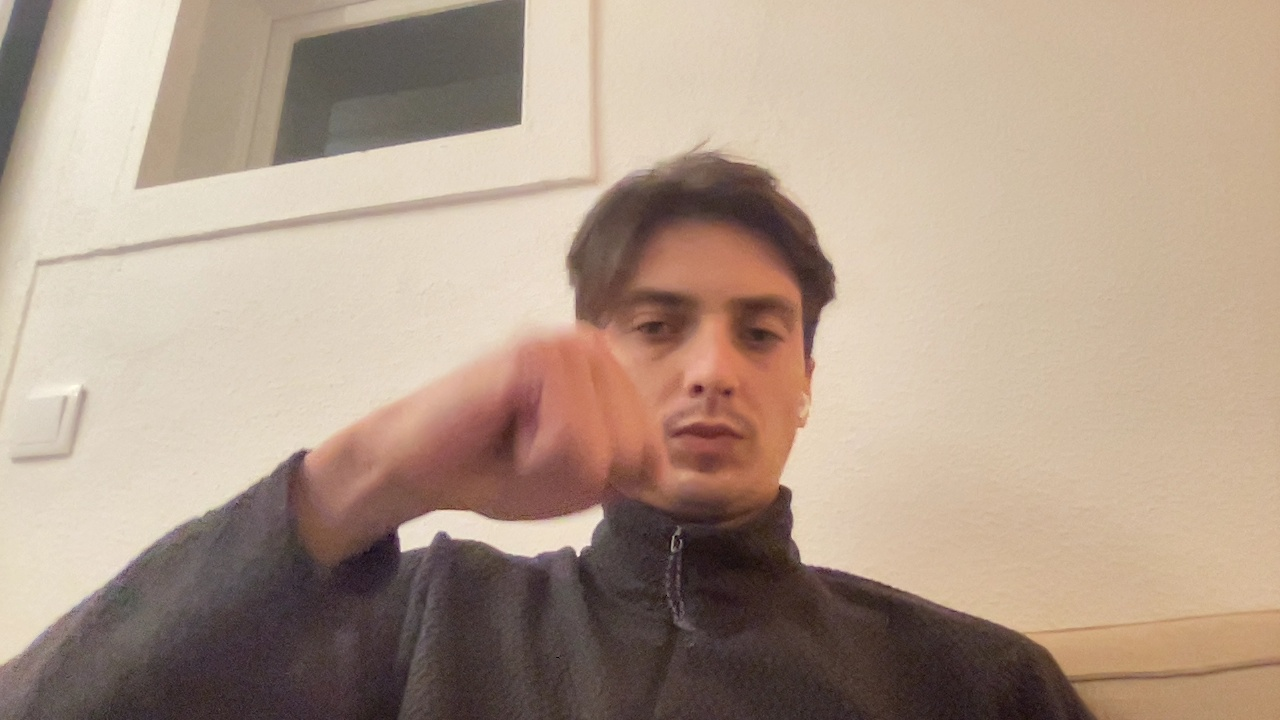Yes: (355, 301, 671, 565)
